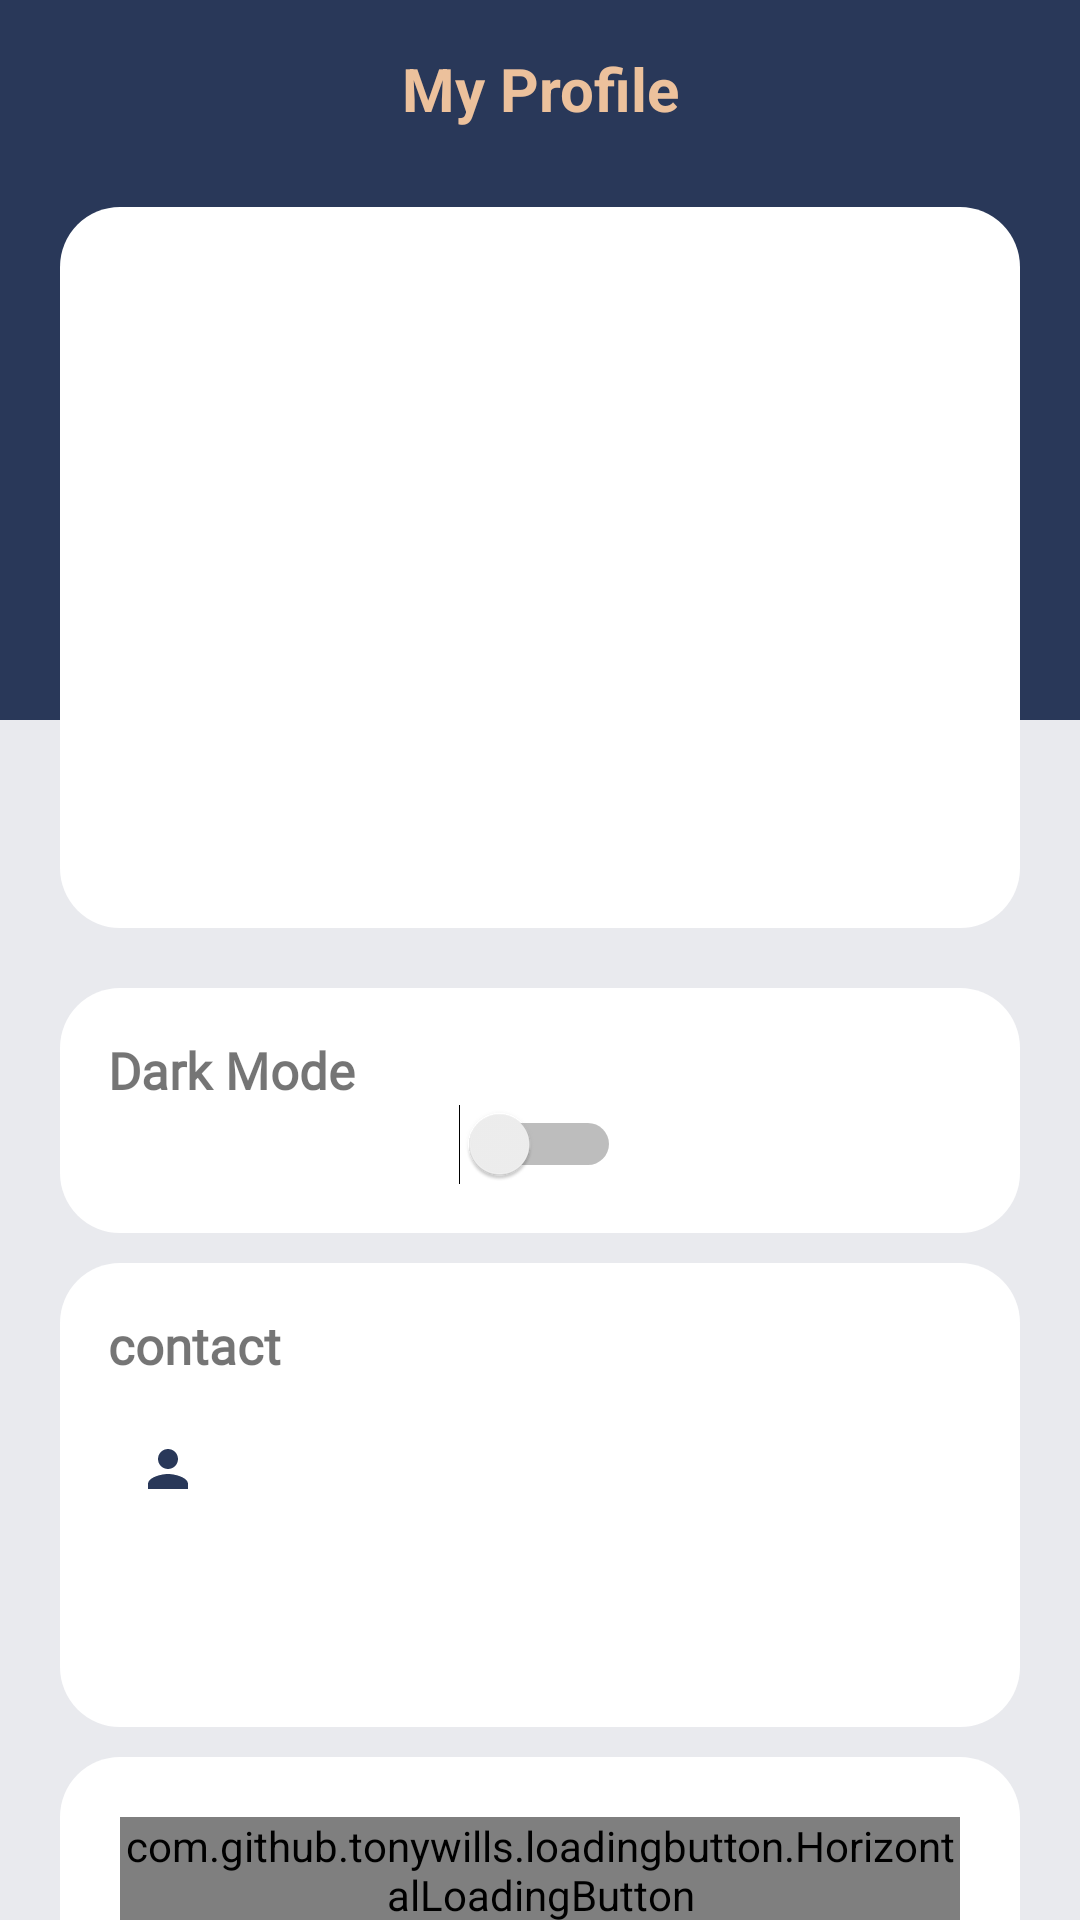

Named icons in this screenshot (1080*1920) and their centers, (x,y):
person: (168,1469)
